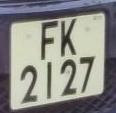1: (41, 60, 58, 103)
2: (16, 60, 43, 109), (58, 54, 80, 101)
7: (77, 53, 96, 93)
F: (35, 18, 61, 64)
K: (59, 16, 80, 62)
